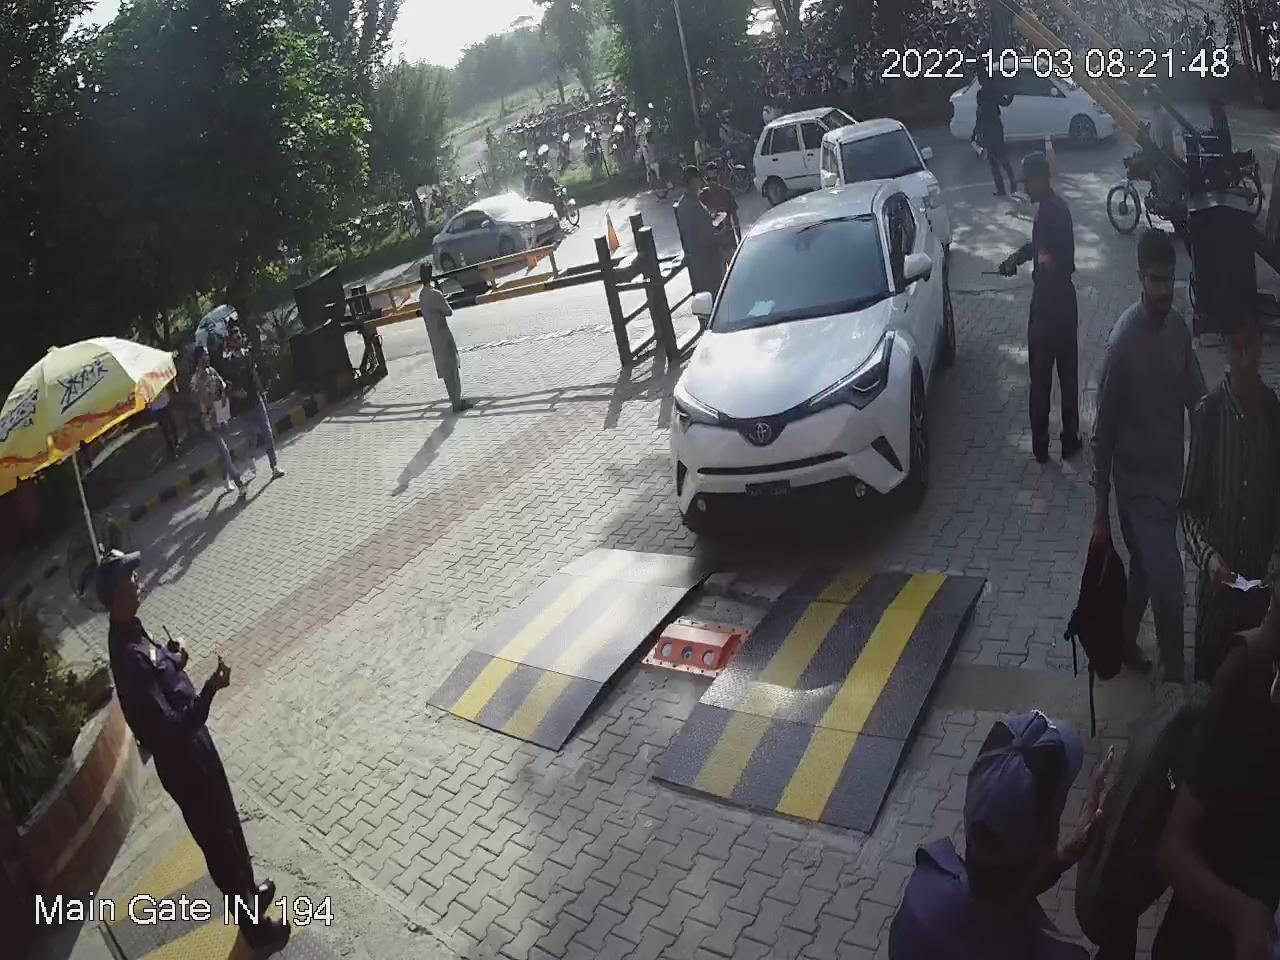windshield: (702, 208, 890, 335)
